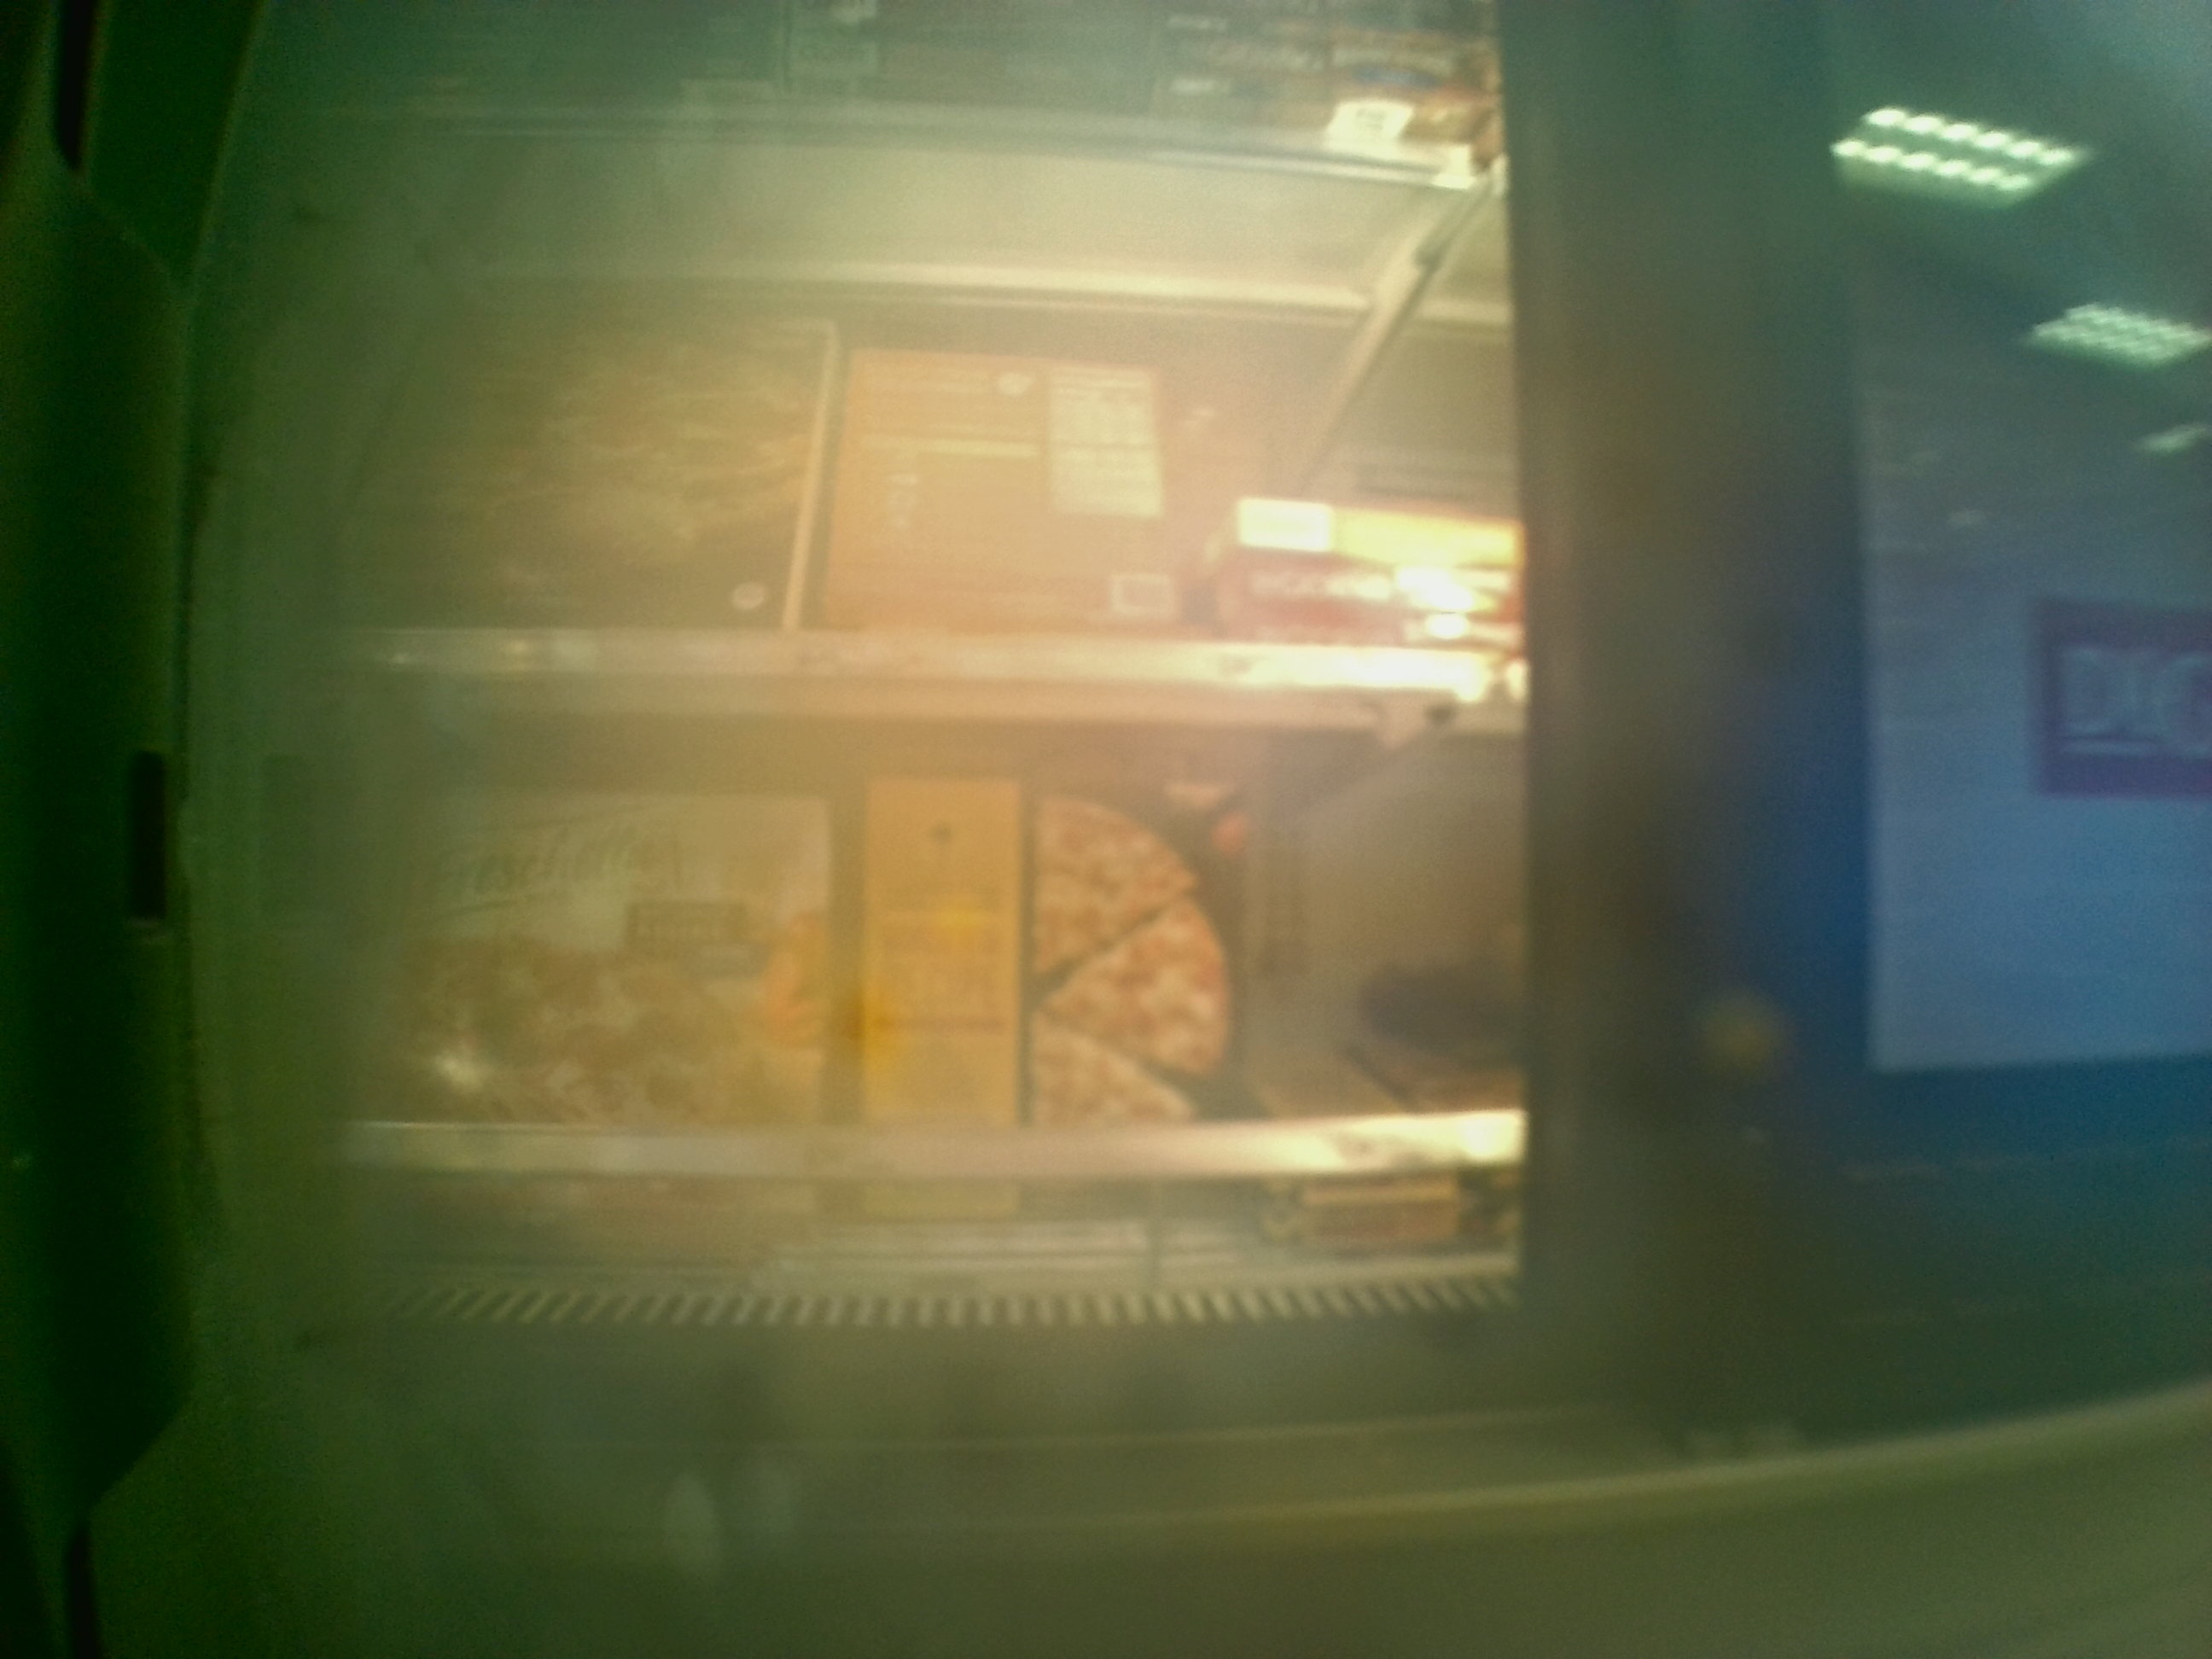shelf: (305, 667, 1514, 1260)
